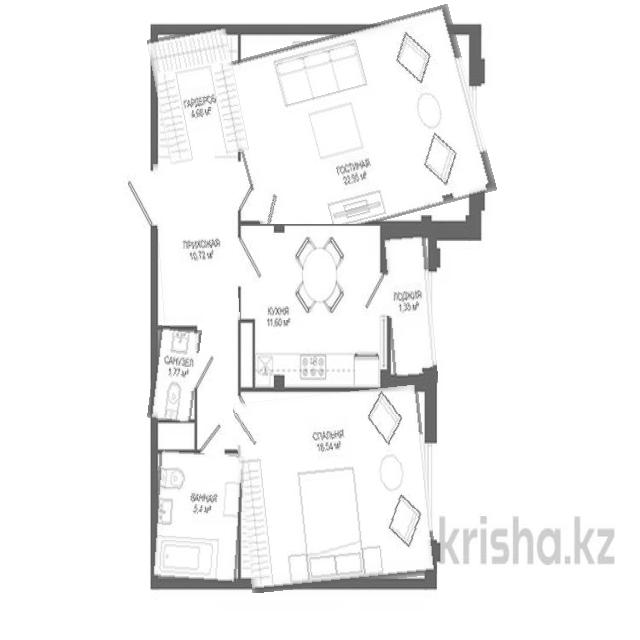balcony: (386, 233, 436, 386)
bathroom: (153, 452, 243, 583), (150, 326, 200, 421)
hallway: (156, 160, 237, 323)
kitchen: (240, 224, 385, 390)
living_room: (228, 17, 487, 238), (237, 389, 433, 588)
other: (153, 28, 243, 162)
